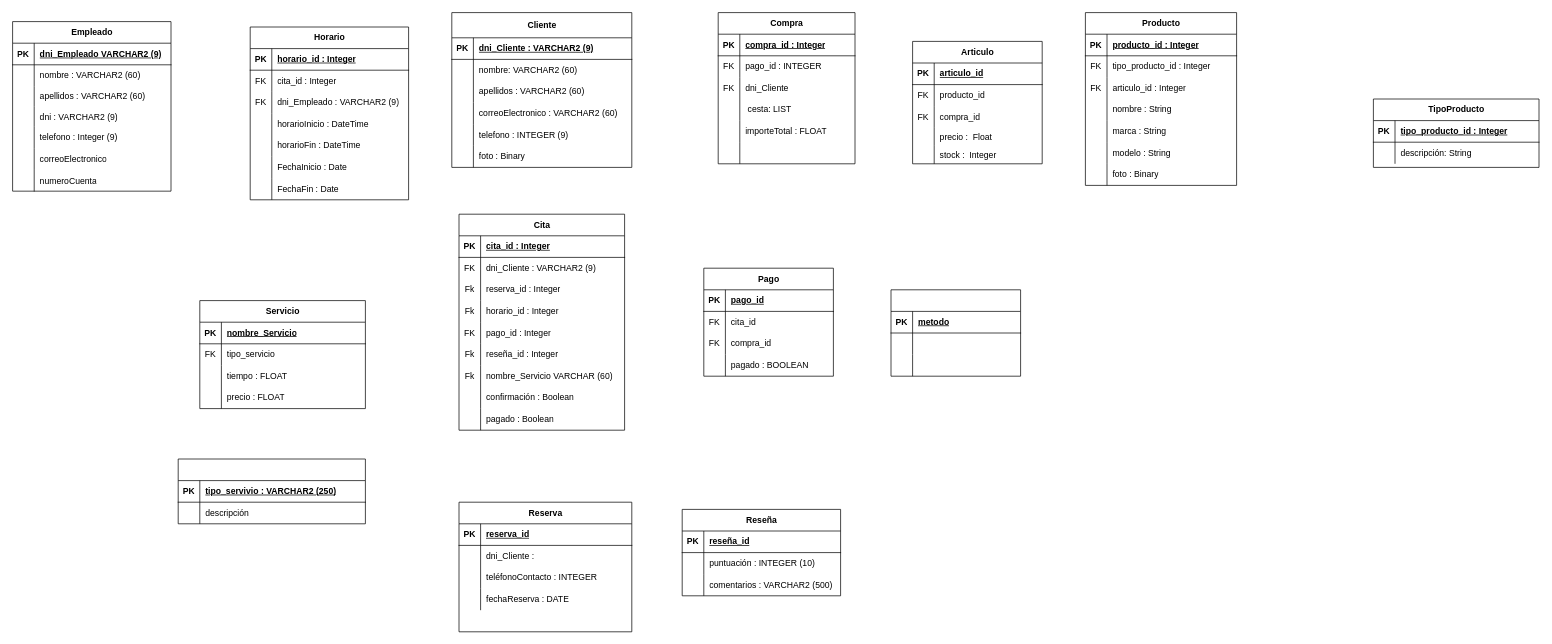
Image size: 1552x644. Some labels were removed from this diagram. Each missing label, with the box of its shape:
MetodoPago: (890, 289, 1021, 376)
TipoServicio: (177, 458, 365, 524)
